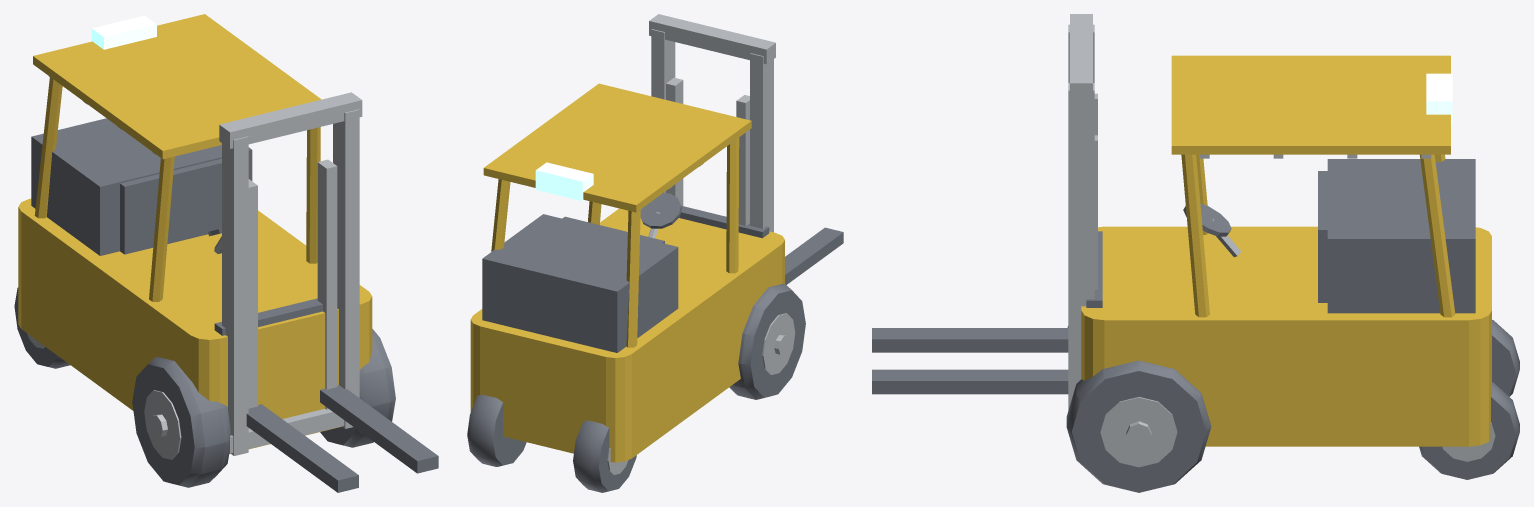
The model's file is ufo-crash-site-and-recovery-facility-forklift-7a7056c4.glb.
The picture shows the model from 3 angles, left to right: view 1: azimuth 30°, elevation 25°; view 2: azimuth 150°, elevation 25°; view 3: azimuth 270°, elevation 25°; orthographic projection. The views are drawn at different scales.
Visible parts, largest first — view 1: forklift, mast, wheel-front-left (×2), forks, wheel-front-right, wheel-rear-left; view 2: forklift, mast, wheel-front-left (×2), wheel-rear-right, wheel-rear-left, forks; view 3: forklift, wheel-front-right (×2), forks, mast, wheel-rear-right (×2), wheel-rear-left.
Boxes of the visible parts, x1,y1,x2,y2 form: forklift: [18, 14, 372, 453]; mast: [219, 92, 362, 455]; wheel-front-left (×2): [132, 357, 231, 487]; forks: [214, 298, 438, 492]; wheel-front-right: [320, 329, 395, 447]; wheel-rear-left: [14, 287, 70, 368]; forklift: [470, 83, 784, 462]; mast: [649, 14, 775, 232]; wheel-front-left (×2): [729, 284, 805, 399]; wheel-rear-right: [467, 394, 526, 466]; wheel-rear-left: [573, 420, 636, 492]; forks: [679, 206, 843, 284]; forklift: [1081, 55, 1491, 446]; wheel-front-right (×2): [1066, 360, 1211, 492]; forks: [872, 231, 1102, 394]; mast: [1068, 14, 1097, 410]; wheel-rear-right (×2): [1419, 382, 1519, 479]; wheel-rear-left: [1492, 320, 1519, 396].
Bounding box in the file's own units: 1.62 × 2.66 × 3.94.
